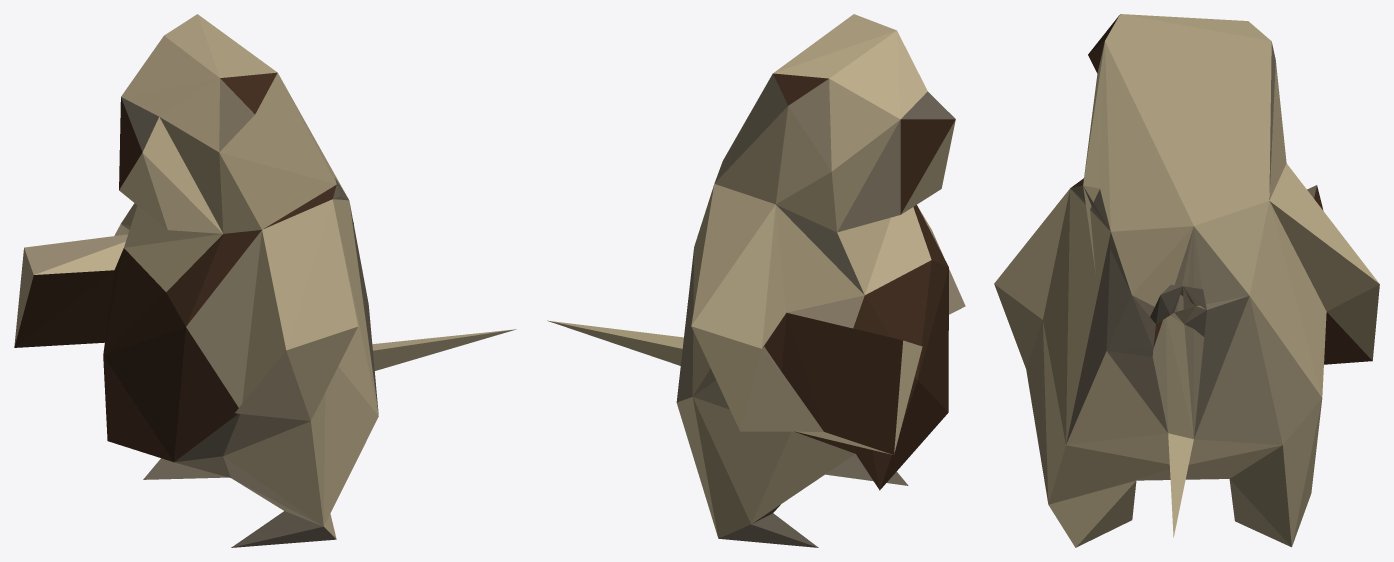
The picture shows the model from 3 angles, left to right: view 1: azimuth 30°, elevation 25°; view 2: azimuth 150°, elevation 25°; view 3: azimuth 270°, elevation 25°; orthographic projection. The views are drawn at different scales.
Parts seen in each view (by area): view 1: lion-200; view 2: lion-200; view 3: lion-200.
Part boxes in pixels (left/top/right/bottom): lion-200: left=14, top=14, right=516, bottom=547; lion-200: left=547, top=14, right=965, bottom=547; lion-200: left=994, top=14, right=1379, bottom=547.
Size of the model in its own units: 0.8473 by 0.8845 by 0.6366.
